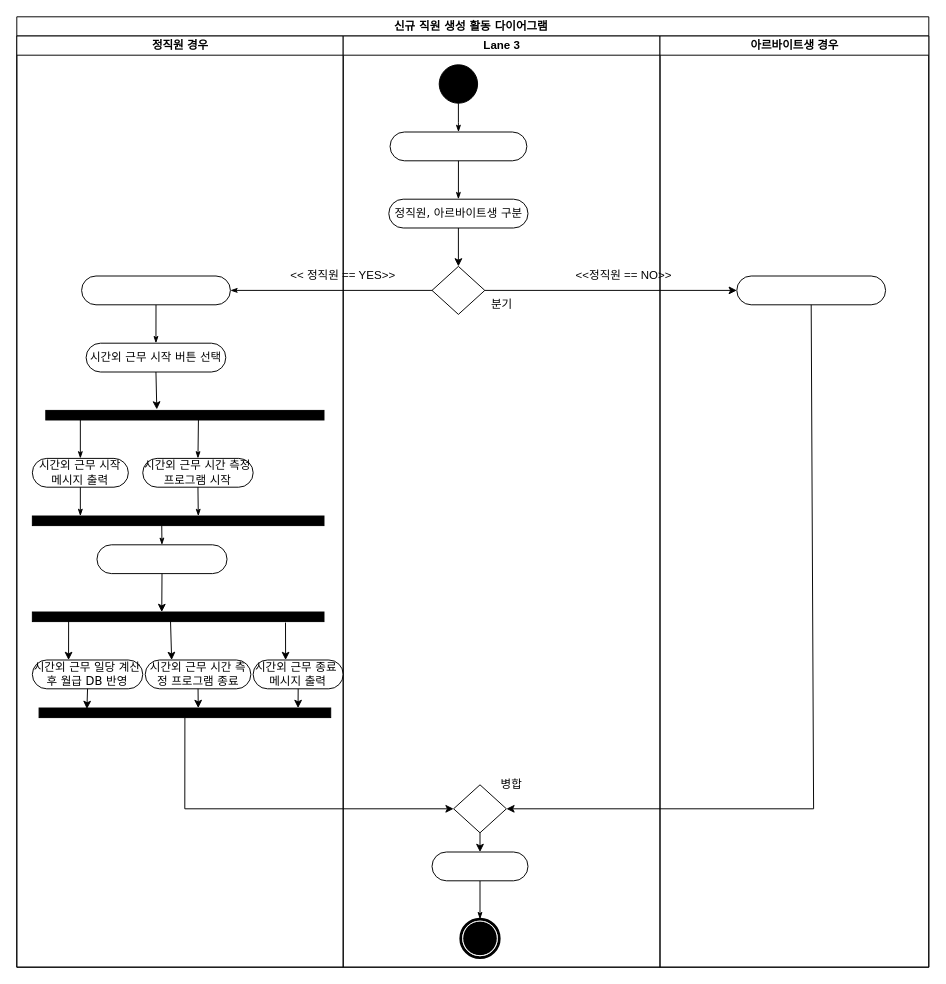
Image size: 946x984. Some labels were removed from this diagram. The shapes that lost their labels are listed below. From the top down, each one's centre as x and y in pixels, then its label:
At point 458,146: "직원 추가 버튼 선택".
At point 155,290: "시간외 근무 인정 메시지 출력".
At point 811,290: "시간외 근무 불가 메시지 출력".
At point 161,559: "시간외 근무 종료 버튼 선택".
At point 479,866: "메인화면 이동".
